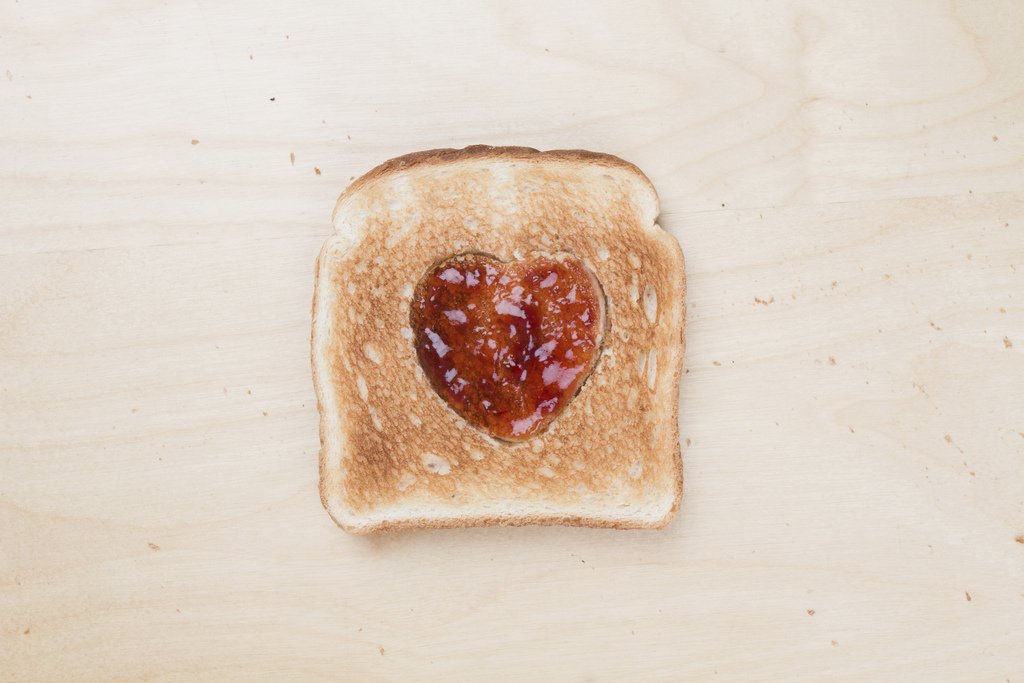slice of bread: (315, 157, 690, 534)
